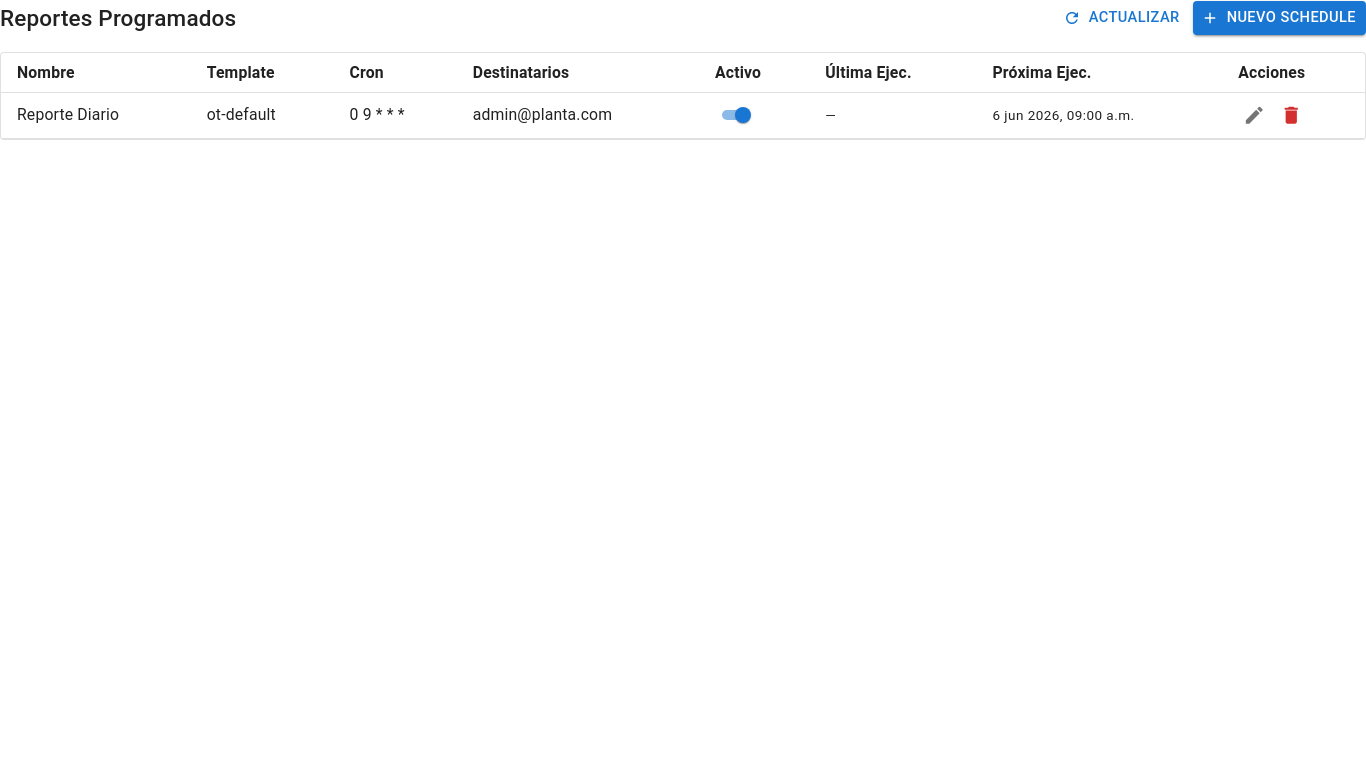
Test: ScheduleManagementPanel › delete confirmation › abre diálogo de confirmación al hacer clic en eliminar
Click the button named "eliminar" at (1291, 115), box [1275,99,1307,132]
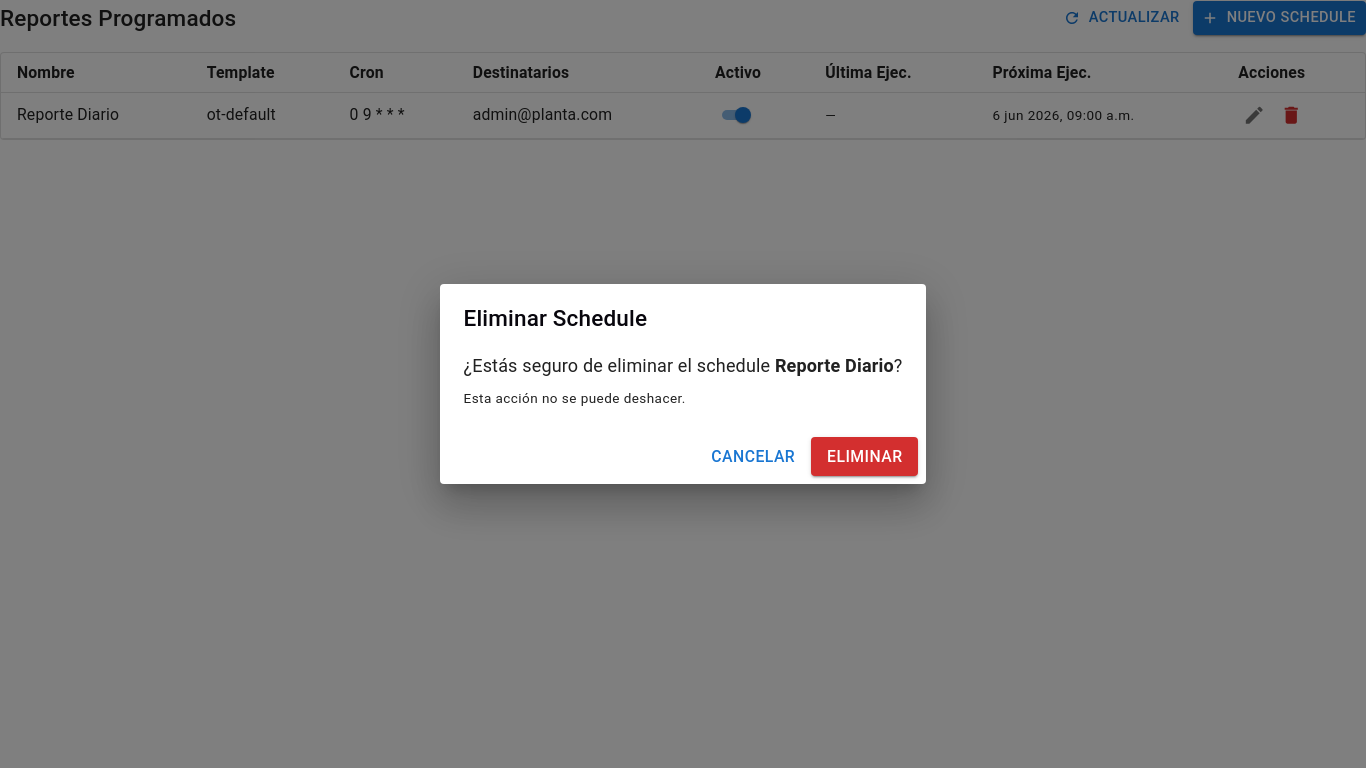
Now the text "¿Estás seguro de eliminar el schedule Reporte Diario?" is shown, box [464,352,902,378]
